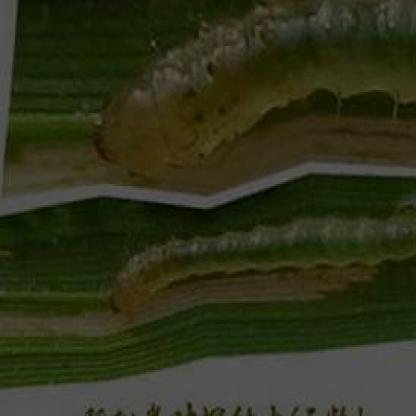leaf-folder: (76, 2, 416, 167), (110, 204, 416, 321)
